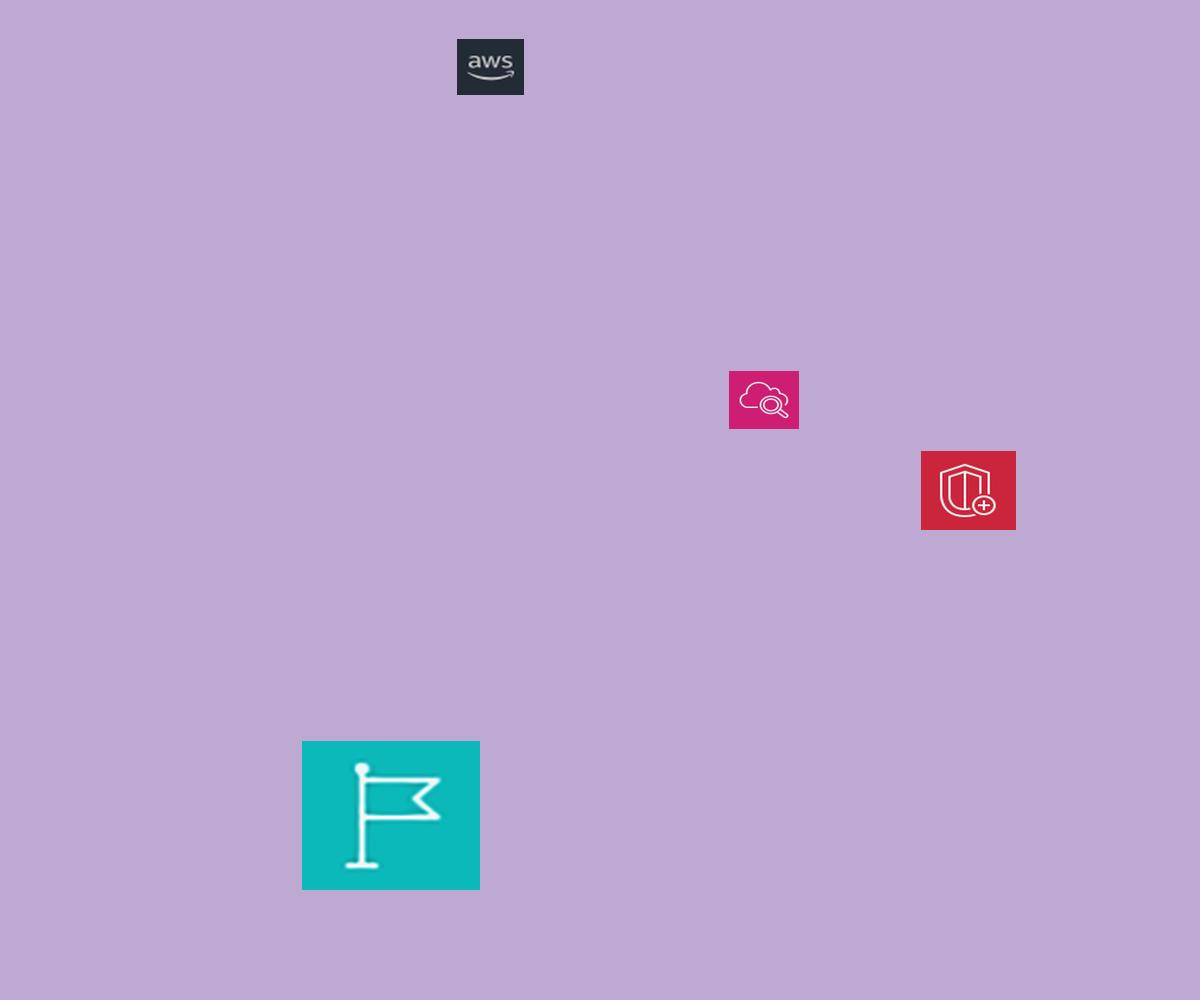AWS-Cloud-logo: (457, 39, 524, 95)
AWS-CloudWatch: (729, 371, 799, 429)
AWS-Region: (302, 741, 480, 890)
AWS-Shield: (921, 451, 1016, 530)
